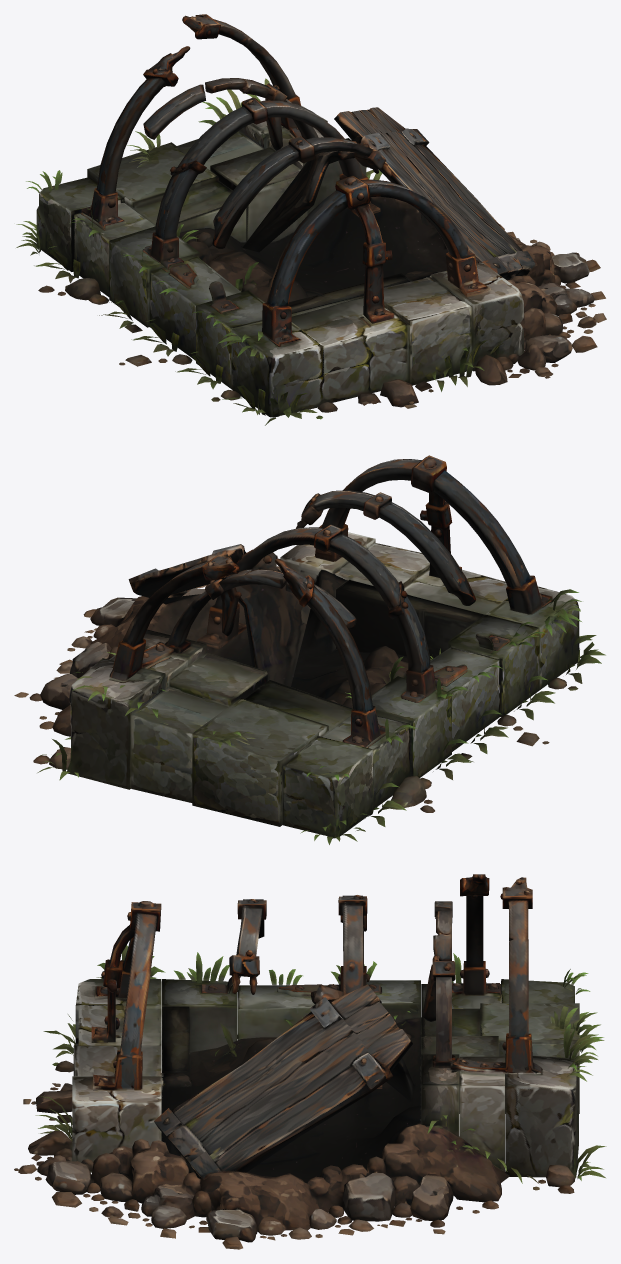
File: act1_extras_v1_unquiet_grave.glb
3 renders of one model, top to bottom at view 1: azimuth 30°, elevation 25°; view 2: azimuth 150°, elevation 25°; view 3: azimuth 270°, elevation 25°, orthographic. The views are drawn at different scales.
Parts seen in each view (by area): view 1: f7b77a28_328a_409d_a64b_c68777d273db; view 2: f7b77a28_328a_409d_a64b_c68777d273db; view 3: f7b77a28_328a_409d_a64b_c68777d273db.
Part boxes in pixels (x1=…): f7b77a28_328a_409d_a64b_c68777d273db: x1=16, y1=14, x2=606, y2=425; f7b77a28_328a_409d_a64b_c68777d273db: x1=14, y1=455, x2=605, y2=844; f7b77a28_328a_409d_a64b_c68777d273db: x1=14, y1=874, x2=606, y2=1249.
Size of the model in its own units: 0.9546 by 0.4429 by 0.9995.
1 material, 1 textured.
